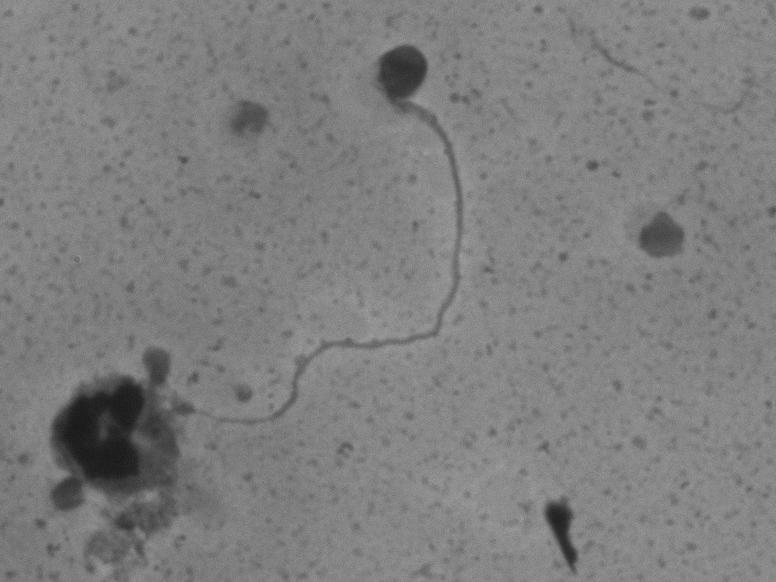Abnormal: (168, 39, 535, 460)
